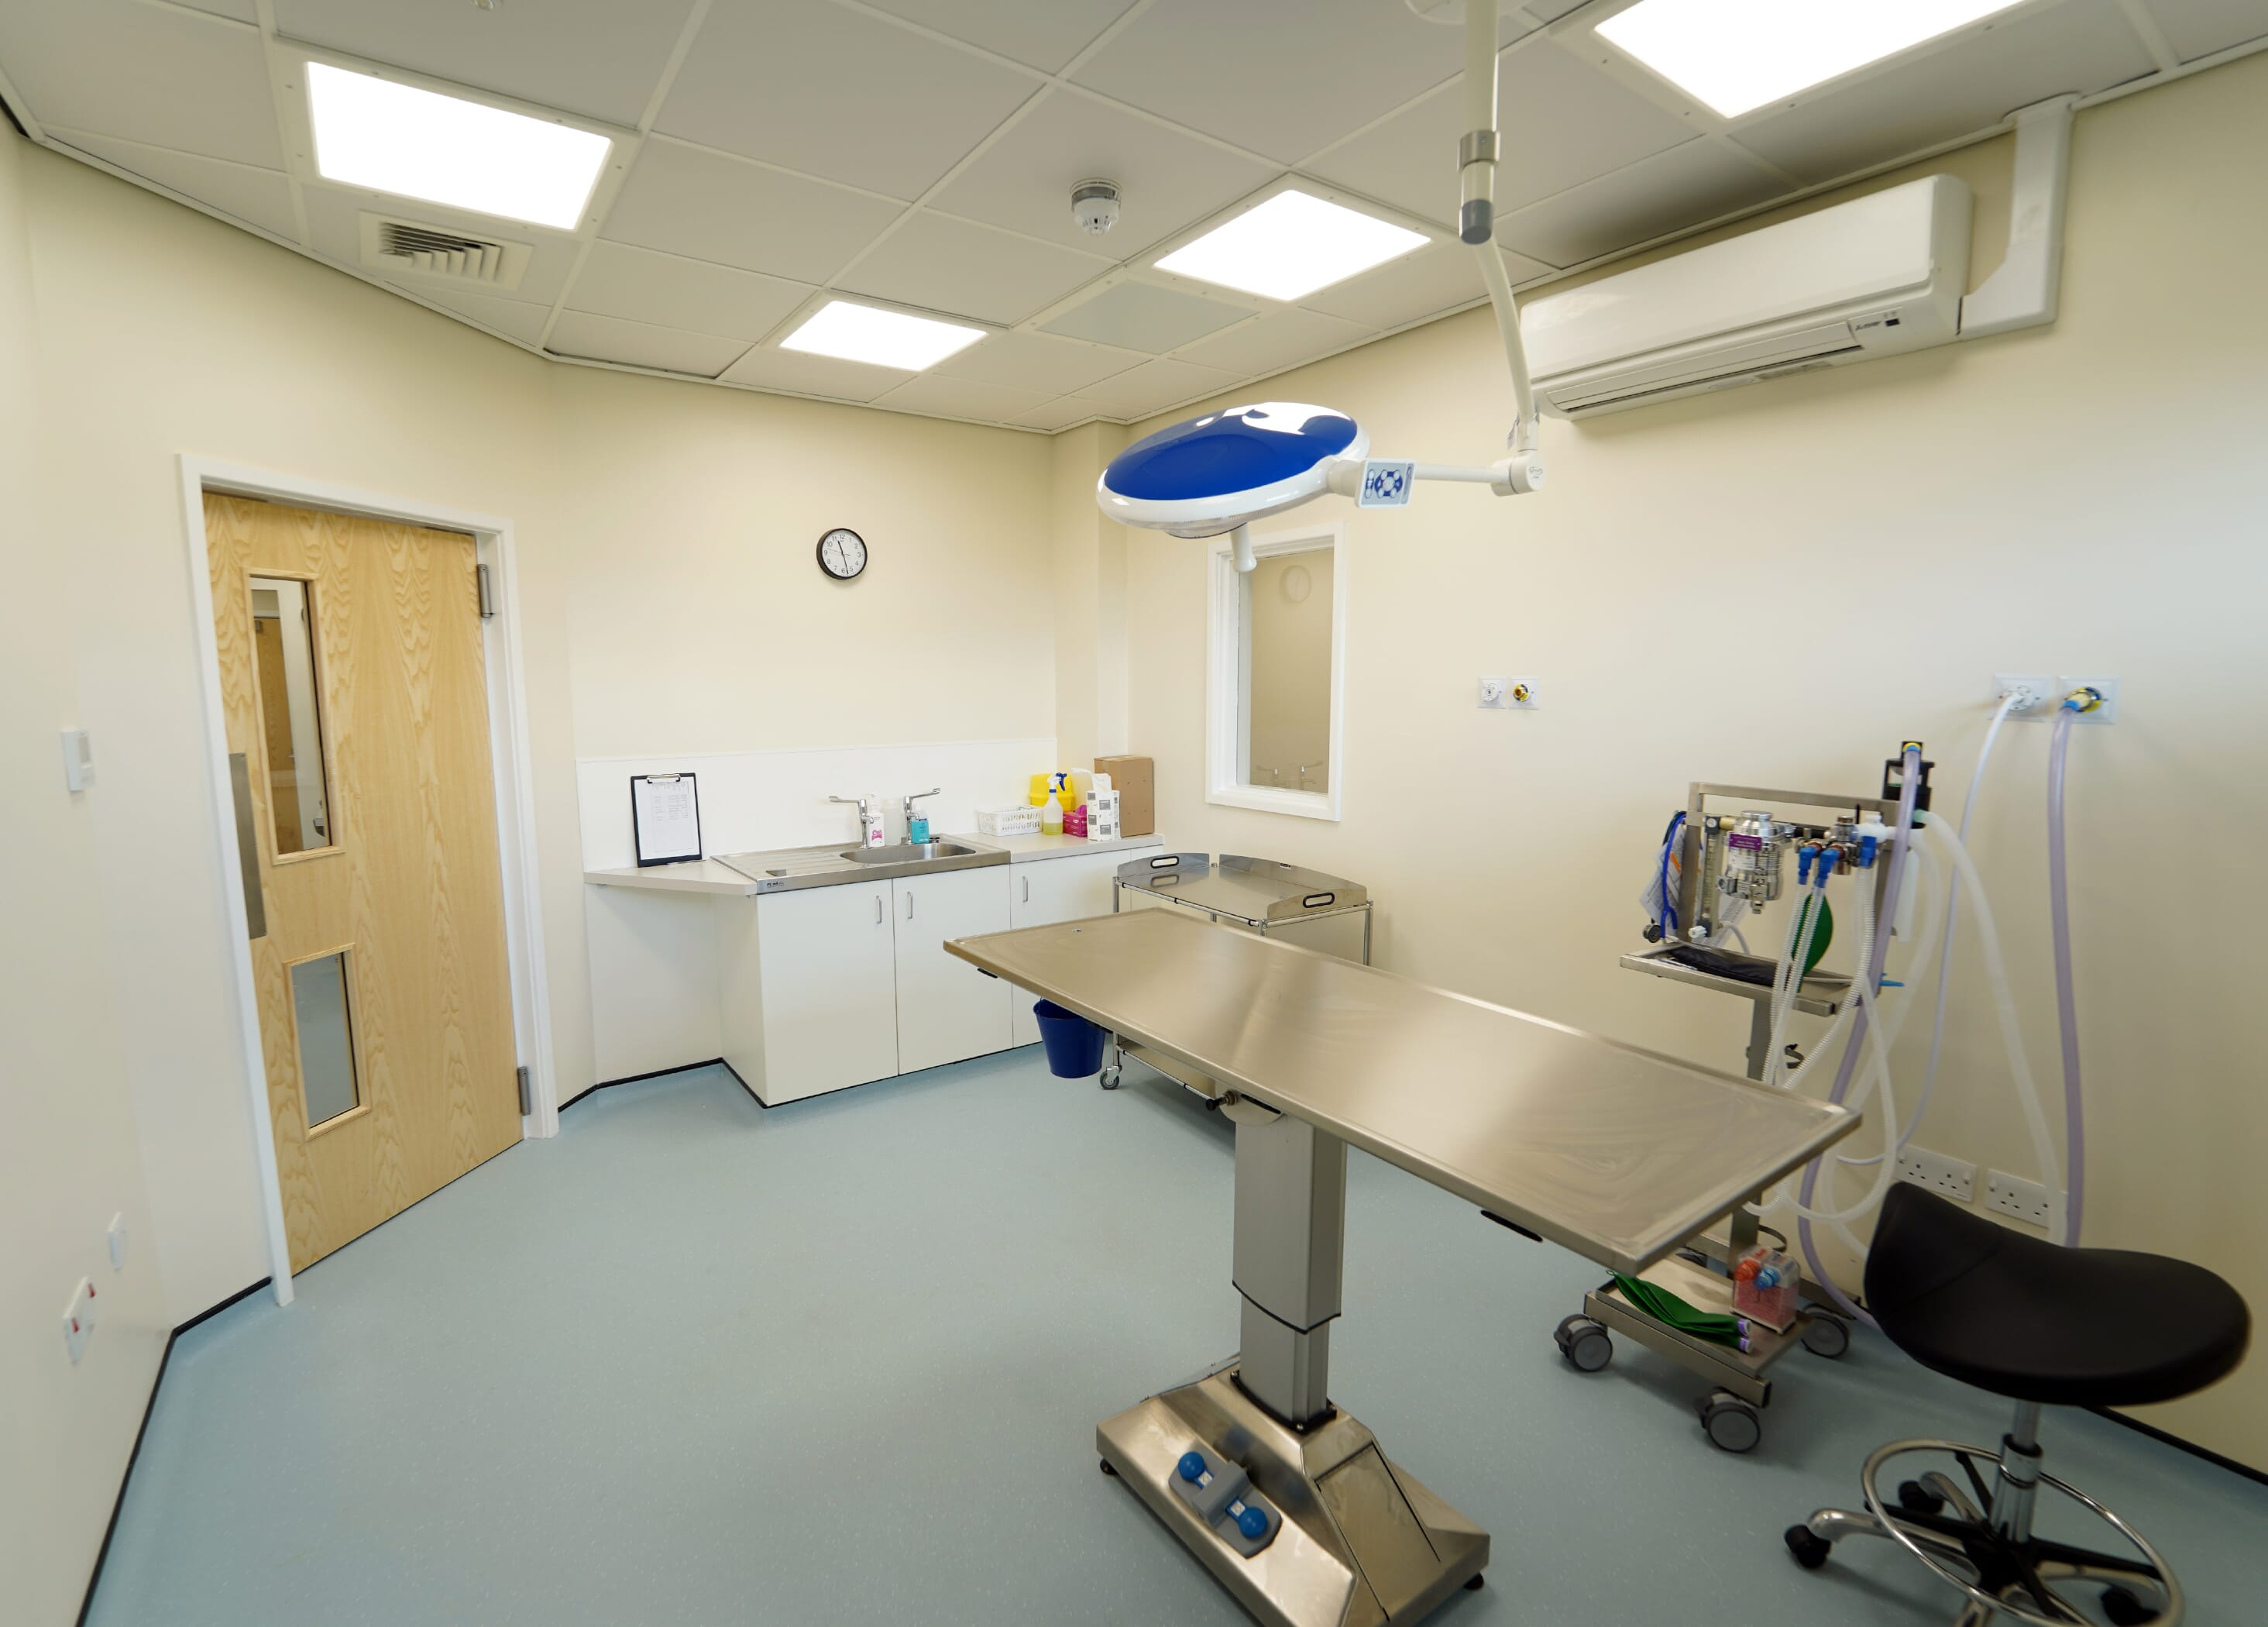breathing_tube: (1767, 822, 2073, 1234)
chair: (1856, 1157, 2220, 1625)
counter: (598, 806, 1160, 1099)
countertop: (618, 791, 1156, 891)
drawer: (204, 740, 280, 947)
exam_table: (927, 898, 1846, 1616)
faucet: (815, 769, 955, 863)
handle: (901, 887, 922, 930), (867, 893, 889, 933), (1019, 865, 1038, 907)
sink: (713, 840, 1012, 893)
surgical_light: (1094, 391, 1358, 555)
utility_cart: (1101, 845, 1374, 1102)
waste_bin: (1036, 988, 1101, 1083)
